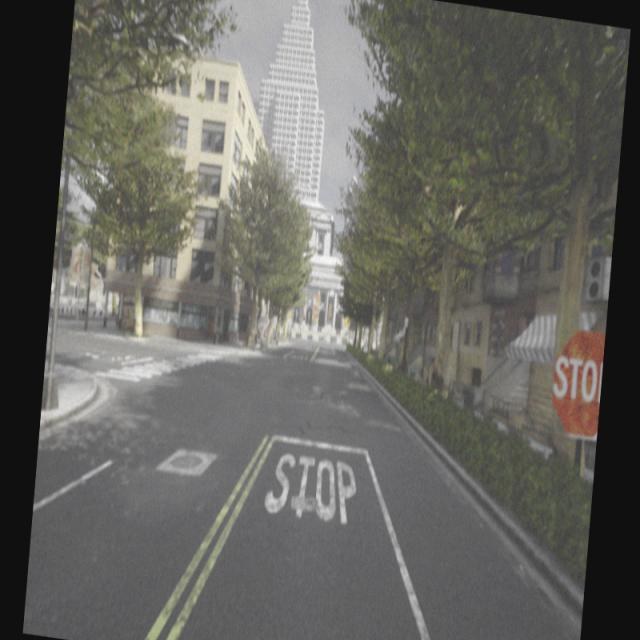stop sign: (548, 325, 606, 442), (553, 354, 600, 403)
